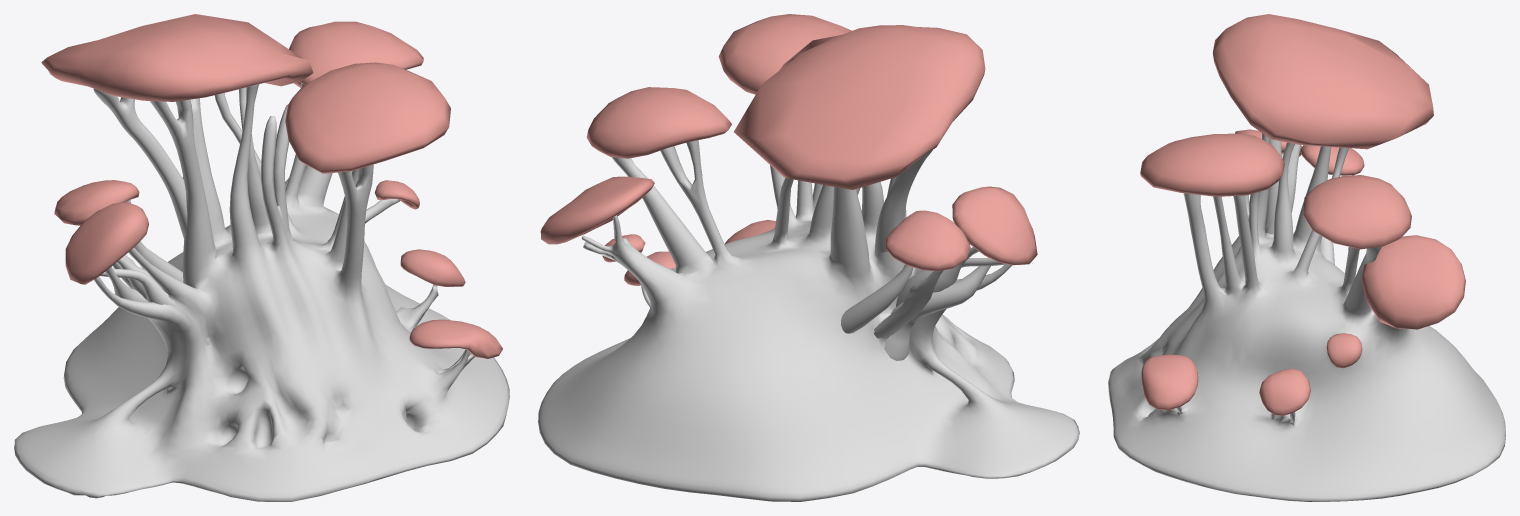
File: HugeTree2Materials.fbx
3 views of the same model, side by side, from view 1: azimuth 30°, elevation 25°; view 2: azimuth 150°, elevation 25°; view 3: azimuth 270°, elevation 25° (orthographic). The views are drawn at different scales.
Parts seen in each view (by area): view 1: Tree_2_Lod0; view 2: Tree_2_Lod0; view 3: Tree_2_Lod0.
Part boxes in pixels (<box>): Tree_2_Lod0: <box>14,14,509,501</box>; Tree_2_Lod0: <box>538,14,1079,501</box>; Tree_2_Lod0: <box>1108,14,1505,501</box>.
Bounding box in the file's own units: 61308 × 50000 × 52610.
